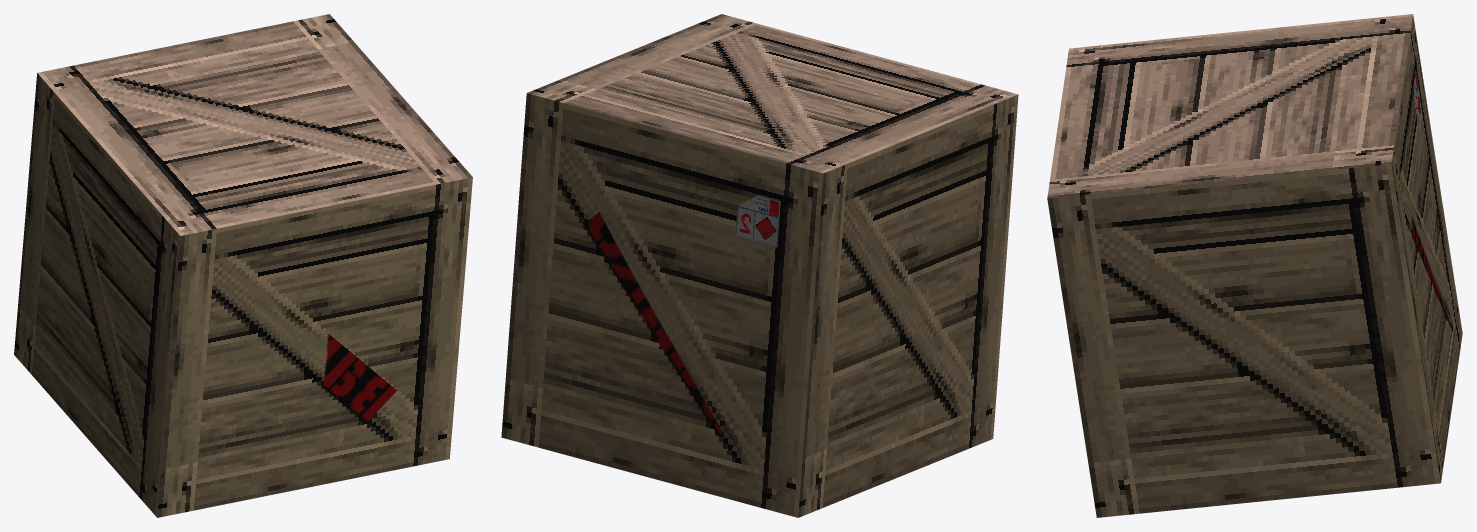
File: primary_137.glb
3 renders of one model, left to right at view 1: azimuth 30°, elevation 25°; view 2: azimuth 150°, elevation 25°; view 3: azimuth 270°, elevation 25°, orthographic. The views are drawn at different scales.
Visible parts, largest first — view 1: Object; view 2: Object; view 3: Object.
Part boxes in pixels (box(x1,y1,x2,y2)): Object: box(14, 14, 472, 517); Object: box(501, 14, 1018, 517); Object: box(1047, 14, 1462, 517).
Bounding box in the file's own units: 1.04 × 1.14 × 1.17.
Materials: 7 (7 with a texture image).
